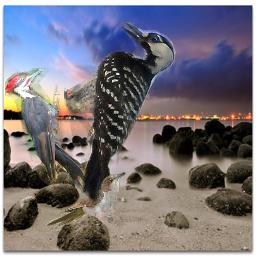Cuckoo: (45, 172, 126, 227)
Woodpecker: (64, 22, 177, 205), (5, 68, 88, 189)
